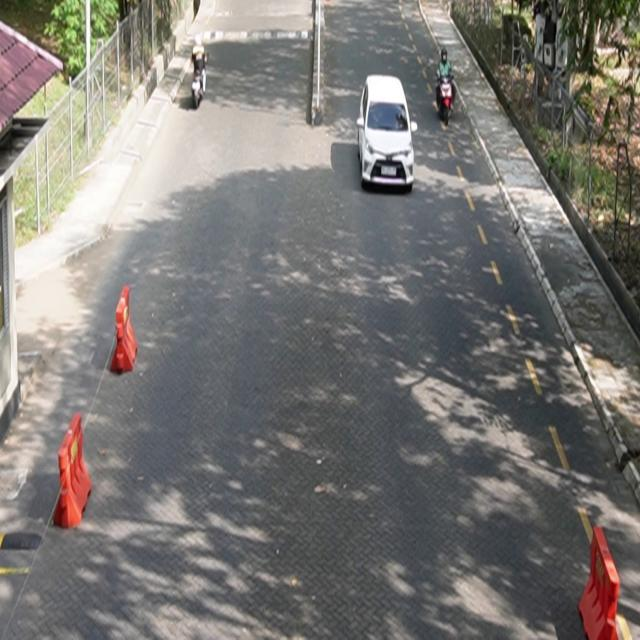car: (357, 75, 418, 193)
